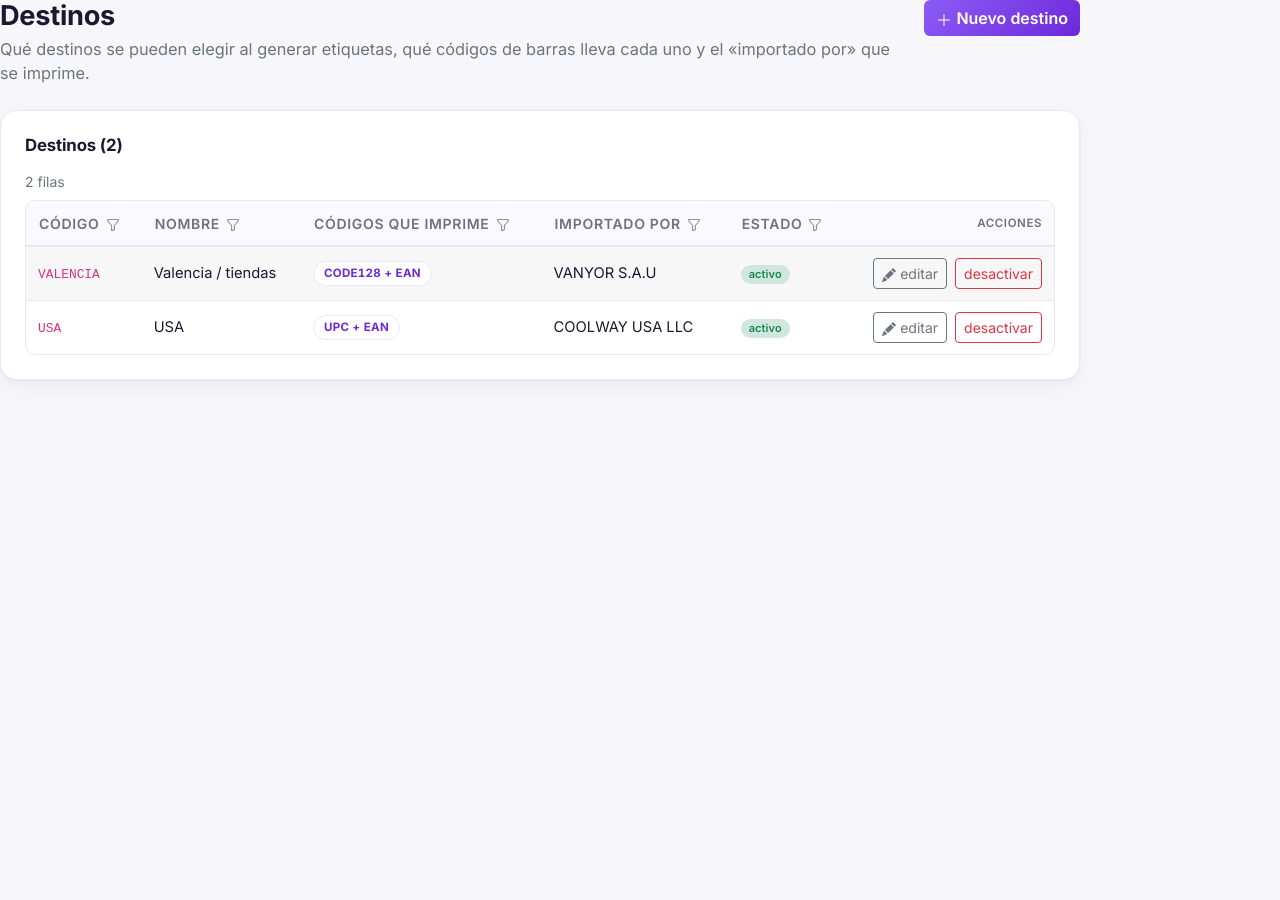
Test: DestinosPage · editar carga EL destino de esa fila › trae los datos de la fila pulsada, no los de otra
Expected: the text "Valencia / tiendas" is shown, x1=142 y1=246 x2=301 y2=300
Step 1. Click the button with aria-label "Editar USA" → coordinates (910, 327), box x1=873 y1=312 x2=947 y2=343
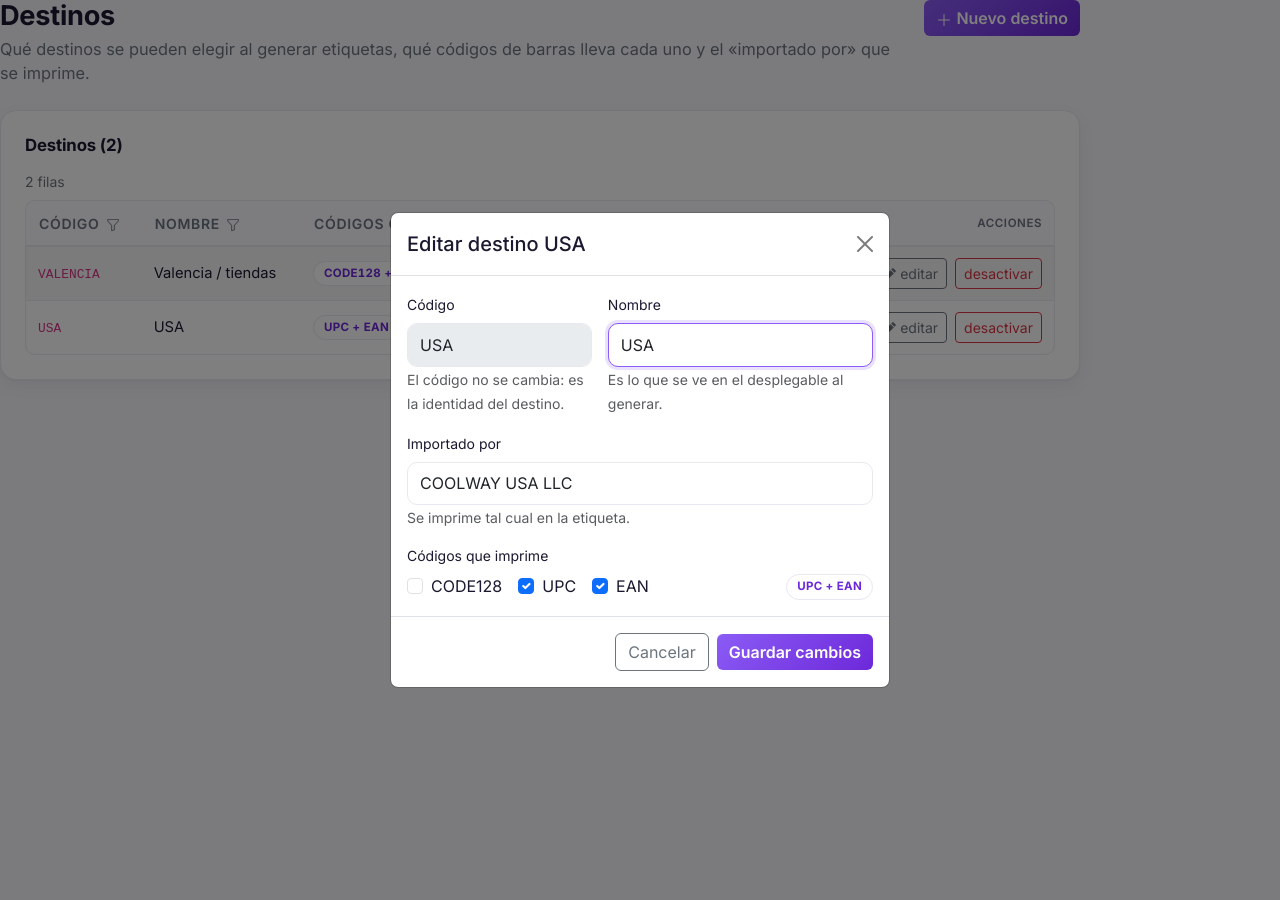
Now the field labelled "Código" holds "USA", box x1=407 y1=323 x2=592 y2=366
Now the field labelled "Nombre" holds "USA", box x1=608 y1=323 x2=873 y2=366
Now the field labelled "Importado por" holds "COOLWAY USA LLC", box x1=407 y1=462 x2=873 y2=505
